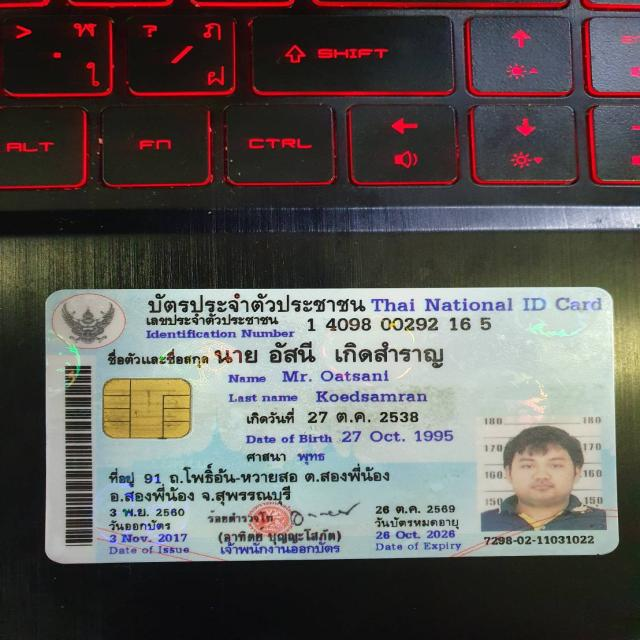Address_th: (103, 459, 395, 508)
Date_of_Birth: (335, 426, 463, 448)
Date_of_Expiry: (371, 527, 461, 544)
Date_of_Issue: (102, 530, 194, 547)
First_Name: (275, 364, 399, 386)
ID_Number: (301, 313, 504, 338)
Image: (478, 416, 604, 532)
Last_Name: (306, 387, 436, 407)
Thai_Name: (210, 338, 460, 371)
